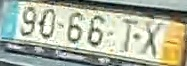0: (37, 7, 57, 40)
6: (85, 13, 107, 48), (65, 10, 85, 45)
9: (18, 4, 37, 38)
T: (121, 17, 139, 53)
X: (136, 19, 163, 60)
